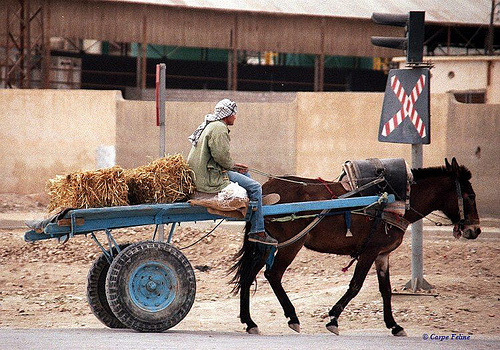horse: (228, 156, 480, 339)
